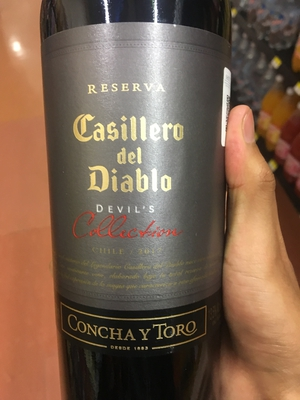casillero del diablo devils collection rojo: (39, 5, 233, 400)
